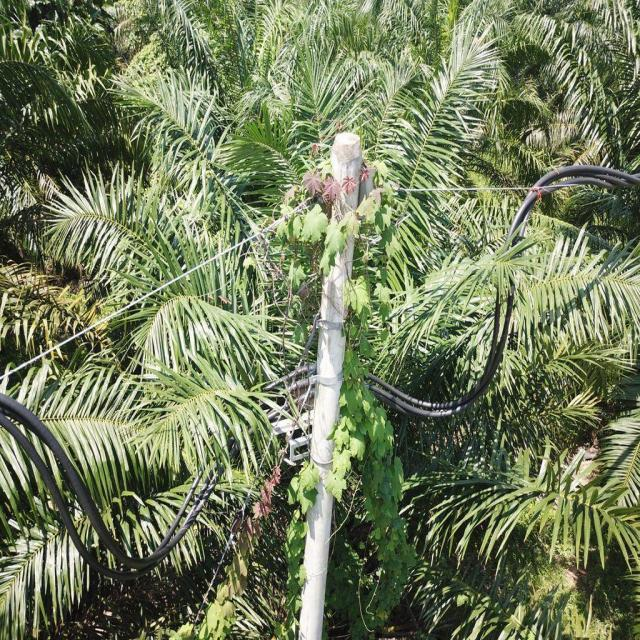critical vegetation: (202, 141, 410, 640)
